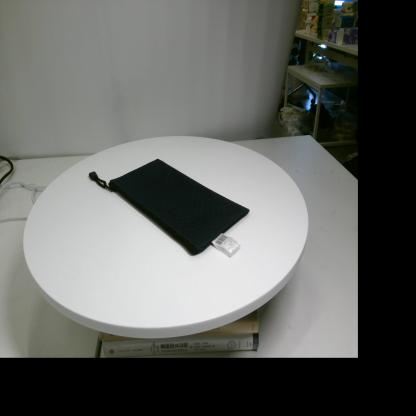Stationery: (88, 158, 250, 256)
